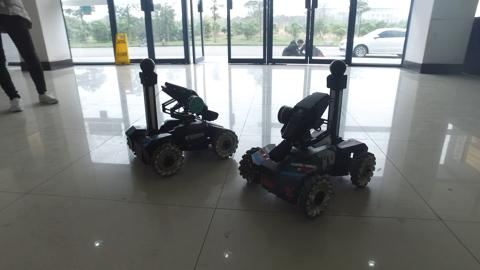chariot: (239, 57, 390, 225), (112, 59, 240, 182)
